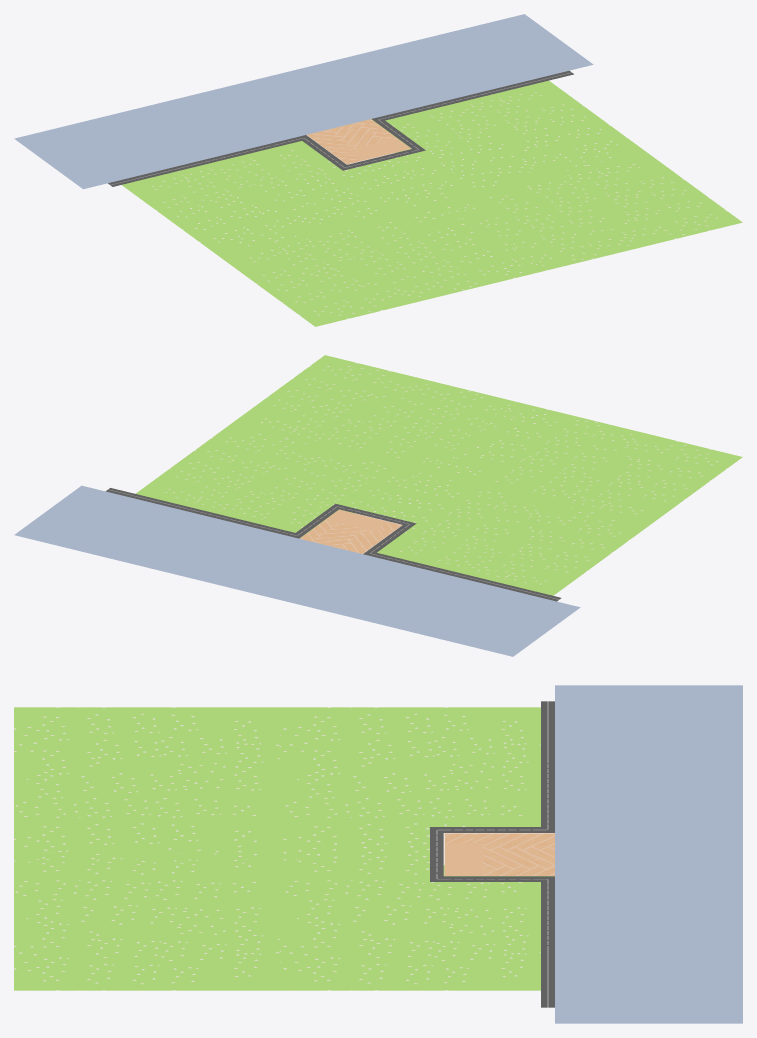
File: Ground_Fix.fbx
The picture shows the model from 3 angles, top to bottom: view 1: azimuth 30°, elevation 25°; view 2: azimuth 150°, elevation 25°; view 3: azimuth 270°, elevation 25°; orthographic projection. The views are drawn at different scales.
Parts seen in each view (by area): view 1: Ground_Fix; view 2: Ground_Fix; view 3: Ground_Fix.
Part boxes in pixels (box(x1,y1,x2,y2)): Ground_Fix: box(14, 14, 742, 326); Ground_Fix: box(14, 355, 742, 656); Ground_Fix: box(14, 685, 742, 1023).
Size of the model in its own units: 18911 by 2 by 17208.
